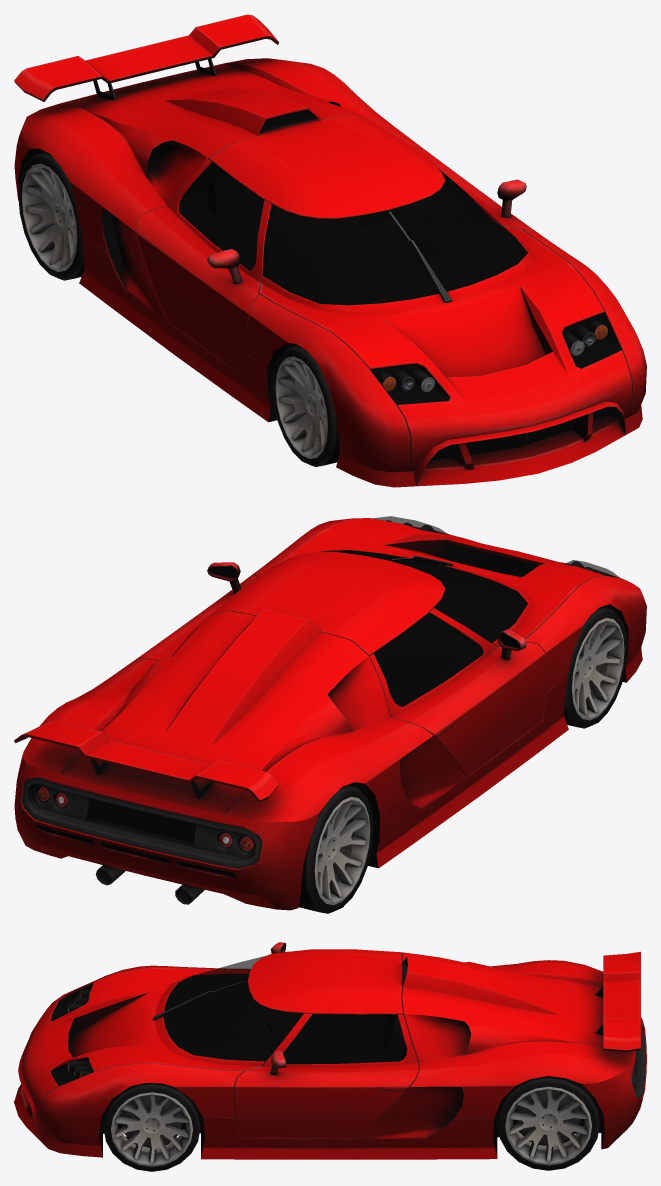
The model's file is sport.glb.
3 renders of one model, top to bottom at view 1: azimuth 30°, elevation 25°; view 2: azimuth 150°, elevation 25°; view 3: azimuth 270°, elevation 25°, orthographic. The views are drawn at different scales.
Parts seen in each view (by area): view 1: Sport body_Body_0, Sport body_Glass_0, Wheel_H003_Wheel_0, Wheel_H002_Wheel_0, Sport body_Optics_0; view 2: Sport body_Body_0, Sport body_Glass_0, Wheel_H003_Wheel_0, Wheel_H002_Wheel_0; view 3: Sport body_Body_0, Sport body_Glass_0, Wheel_H001_Wheel_0, Wheel_H_Wheel_0.
Part boxes in pixels (x1,y1,x2,y2): Sport body_Body_0: (14,14,646,487); Sport body_Glass_0: (179,162,621,404); Wheel_H003_Wheel_0: (18,152,84,280); Wheel_H002_Wheel_0: (272,345,339,466); Sport body_Optics_0: (383,325,607,391); Sport body_Body_0: (14,518,646,910); Sport body_Glass_0: (320,516,619,706); Wheel_H003_Wheel_0: (299,785,373,913); Wheel_H002_Wheel_0: (564,606,627,728); Sport body_Body_0: (14,942,646,1159); Sport body_Glass_0: (50,956,406,1085); Wheel_H001_Wheel_0: (497,1076,599,1170); Wheel_H_Wheel_0: (103,1083,200,1171).
Size of the model in its own units: 1.77 by 1.04 by 3.91.
Materials: 4 (3 with a texture image).
